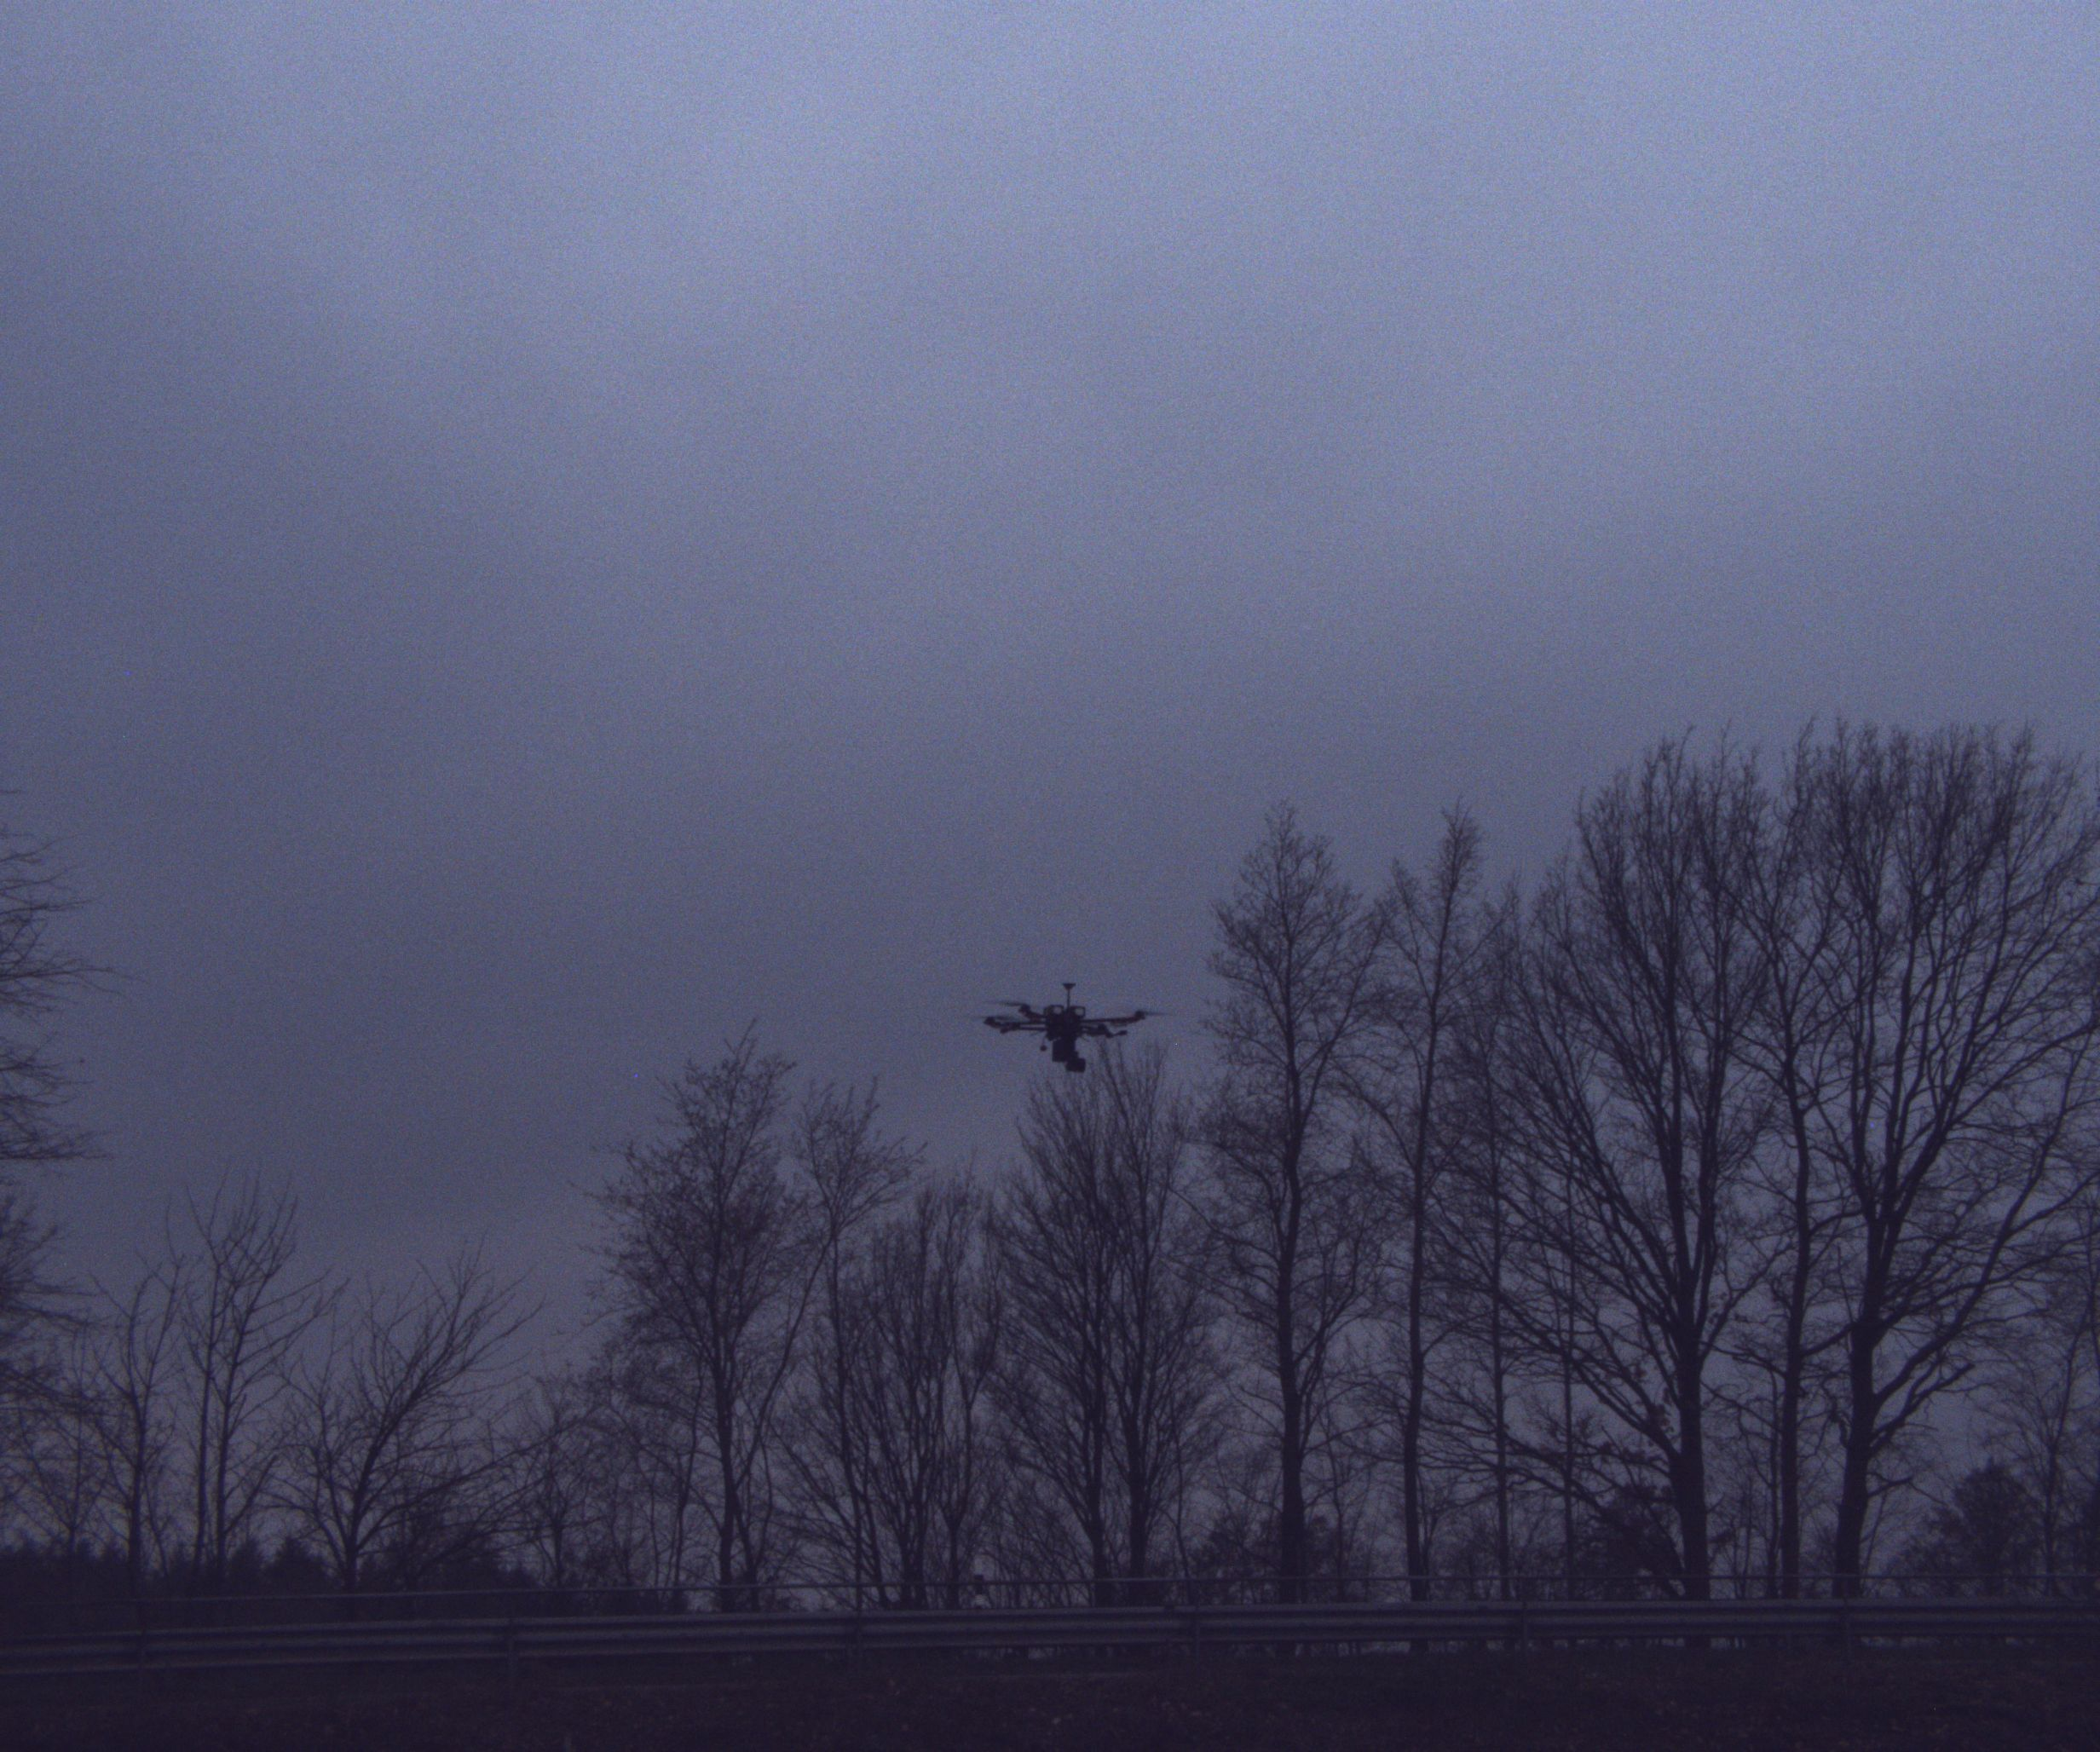Drohne: (935, 957, 1210, 1119)
